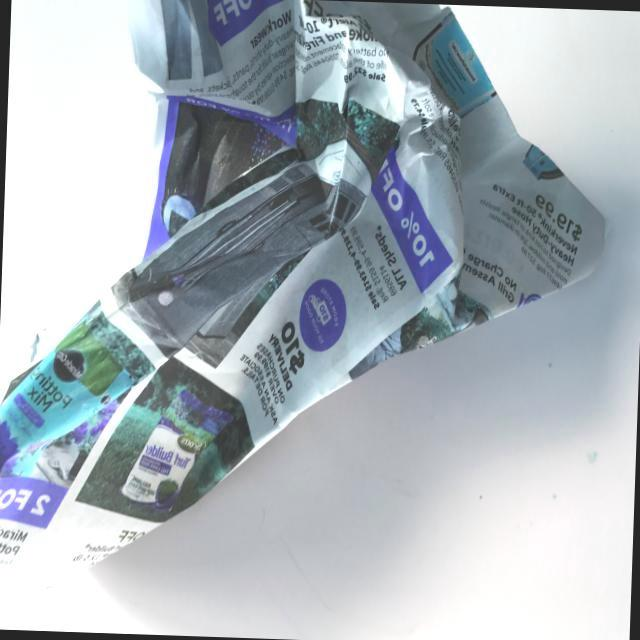paper: (0, 0, 622, 634)
